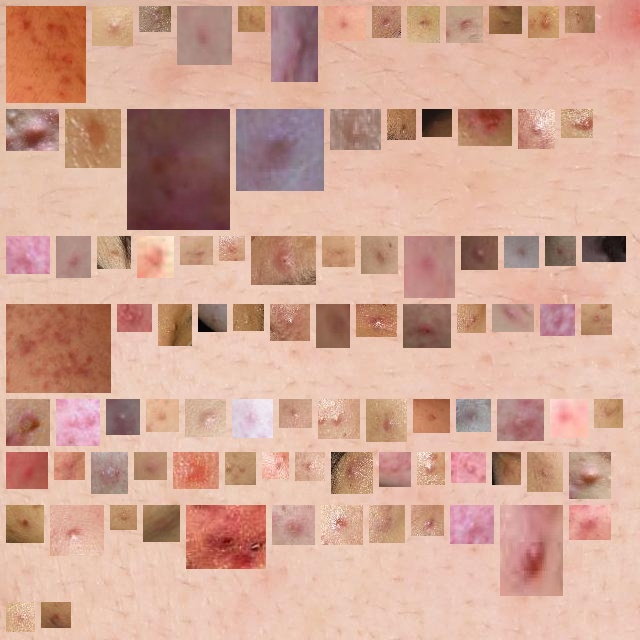papule: (135, 117, 222, 222), (14, 312, 103, 385), (14, 14, 78, 95), (244, 117, 316, 183), (508, 513, 555, 588), (194, 513, 258, 561), (279, 14, 310, 74), (73, 117, 113, 160), (185, 14, 224, 57), (259, 244, 308, 277), (412, 244, 447, 290), (58, 513, 96, 548), (466, 109, 504, 138), (14, 117, 51, 143), (411, 312, 443, 340), (338, 117, 373, 142), (14, 407, 42, 438), (64, 407, 92, 438), (505, 407, 536, 433), (577, 460, 603, 491), (339, 460, 365, 486), (374, 407, 399, 434), (280, 513, 307, 537), (458, 513, 486, 536), (181, 460, 211, 481), (326, 407, 352, 431), (329, 513, 355, 537), (14, 244, 42, 266), (100, 14, 125, 38), (240, 407, 265, 430), (193, 407, 218, 429), (145, 244, 166, 270), (14, 460, 40, 481), (99, 460, 120, 486), (500, 304, 526, 324), (558, 407, 580, 430), (526, 117, 547, 141), (278, 312, 302, 333), (324, 312, 342, 340), (332, 14, 358, 33), (64, 244, 83, 270), (577, 513, 603, 532), (14, 513, 36, 535), (535, 460, 555, 484), (590, 244, 618, 261), (166, 312, 184, 338), (369, 244, 390, 266), (454, 14, 475, 35), (151, 513, 172, 534), (377, 513, 397, 535), (364, 312, 389, 329), (469, 244, 490, 262), (421, 407, 442, 425), (114, 407, 132, 427), (415, 14, 432, 35), (464, 407, 483, 424), (105, 244, 123, 261), (512, 244, 531, 260), (548, 312, 567, 328), (387, 460, 403, 479), (154, 407, 171, 424), (459, 460, 478, 475), (330, 244, 347, 259), (233, 460, 248, 477), (419, 513, 436, 528), (536, 14, 551, 30), (125, 312, 144, 324), (589, 312, 604, 327), (188, 244, 205, 257), (287, 407, 304, 420), (500, 460, 513, 477), (553, 244, 568, 258), (380, 14, 393, 30), (569, 117, 585, 130), (497, 14, 514, 26), (142, 460, 159, 472), (425, 460, 437, 477), (395, 117, 408, 132), (303, 460, 317, 473), (14, 610, 27, 624), (62, 460, 77, 472), (465, 312, 478, 325), (602, 407, 615, 420), (430, 117, 444, 129), (241, 312, 256, 323), (147, 14, 163, 24), (206, 312, 219, 324), (573, 14, 587, 25), (49, 610, 63, 620), (270, 460, 281, 471), (246, 14, 257, 24), (118, 513, 129, 522), (227, 244, 237, 253)
